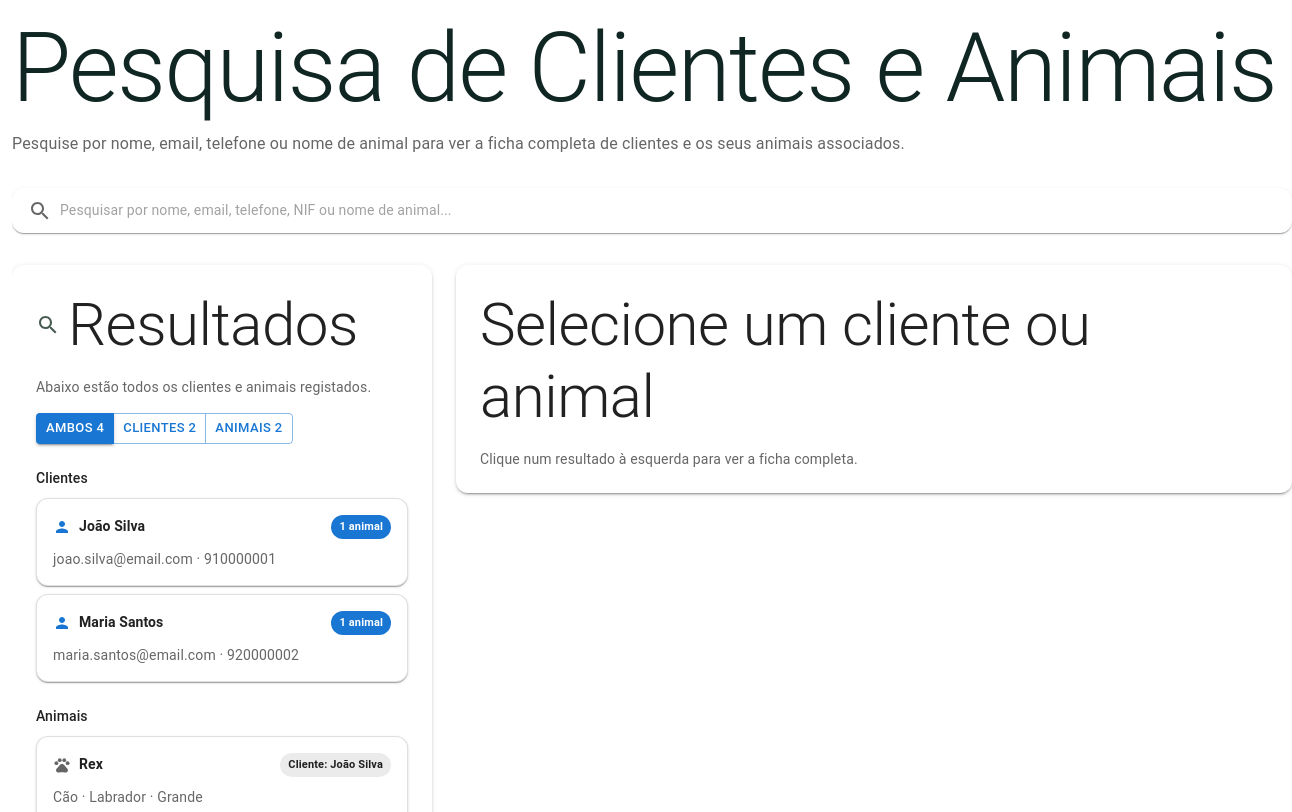
Pesquisa page › filtrar por nome de cliente mostra apenas clientes correspondentes
Expected: the heading "João Silva" is shown, top-left (79, 518), bottom-right (145, 534)
Type "João" into the field with test id "pesquisa-input". click: x=668, y=211
box: top-left (60, 196), bottom-right (1276, 225)
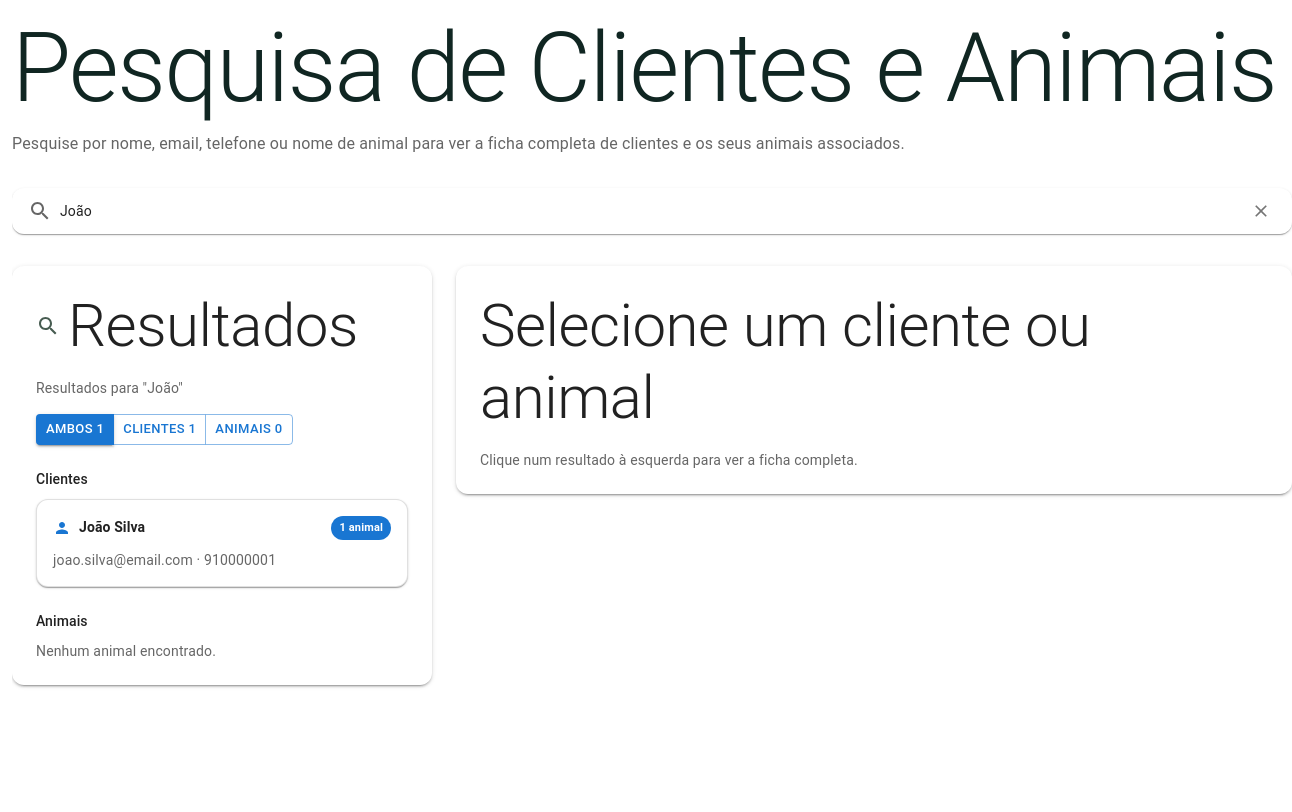
Expected: the heading "João Silva" is shown, top-left (79, 519), bottom-right (145, 535)
Expected: the heading "Maria Santos" is gone
